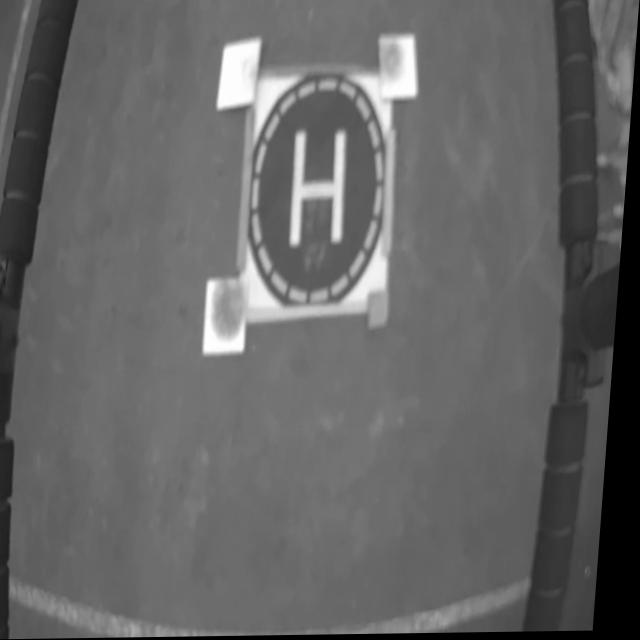Helipad: (292, 130, 349, 250)
